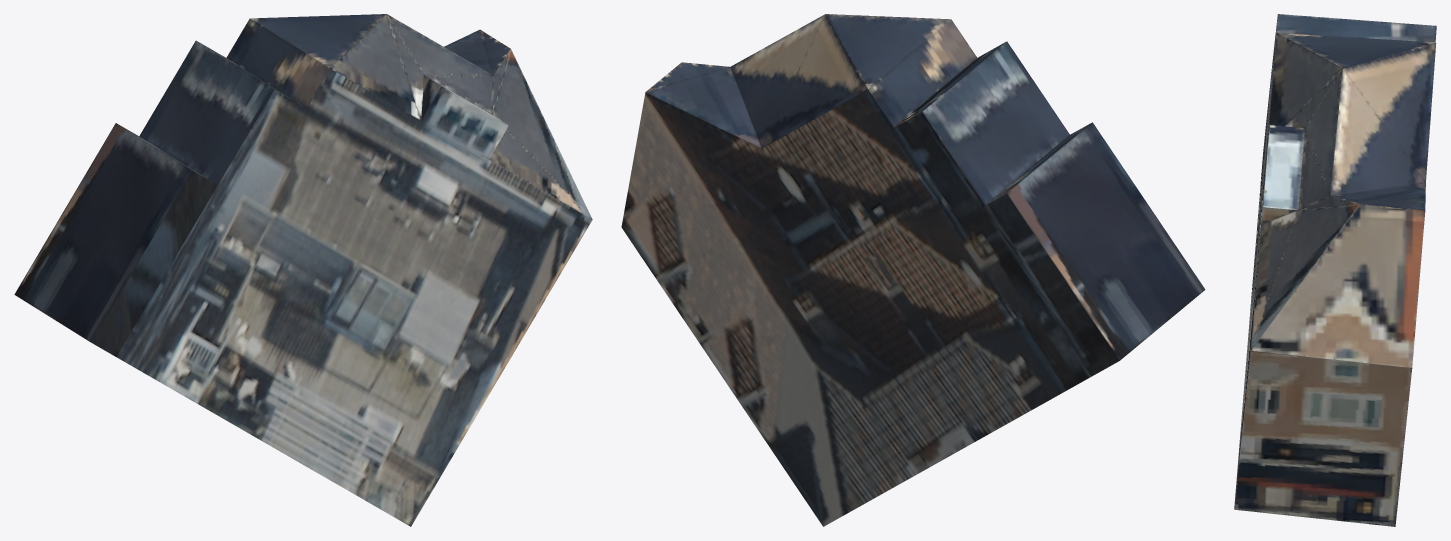
3 views of the same model, side by side, from view 1: azimuth 30°, elevation 25°; view 2: azimuth 150°, elevation 25°; view 3: azimuth 270°, elevation 25° (orthographic). The views are drawn at different scales.
Parts seen in each view (by area): view 1: BAG_0599100000671718 (×5); view 2: BAG_0599100000671718 (×5); view 3: BAG_0599100000671718 (×5).
Boxes of the visible parts, x1,y1,x2,y2 form: BAG_0599100000671718 (×5): (14,14,592,526); BAG_0599100000671718 (×5): (621,14,1205,526); BAG_0599100000671718 (×5): (1234,14,1436,526).
Bounding box in the file's own units: 18.32 × 16.76 × 6.55.
1 material, 1 textured.
